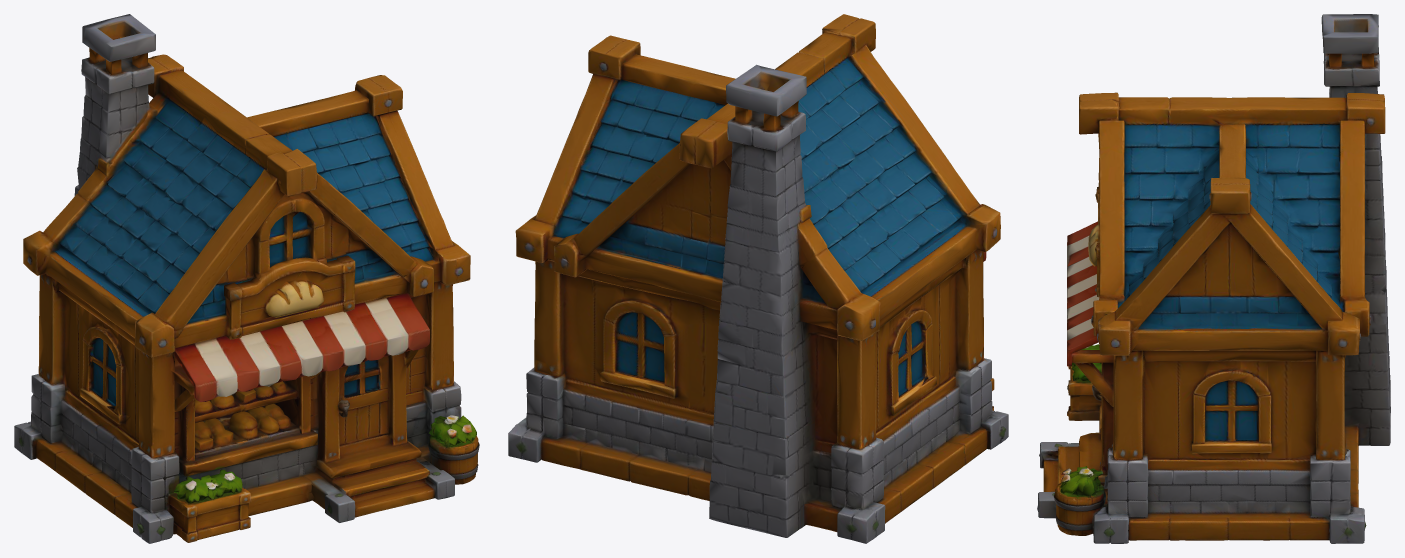
Rendered from bakery.glb.
The picture shows the model from 3 angles, left to right: view 1: azimuth 30°, elevation 25°; view 2: azimuth 150°, elevation 25°; view 3: azimuth 270°, elevation 25°; orthographic projection. The views are drawn at different scales.
Visible parts, largest first — view 1: tripo_node_aa6feaf2-c8e9-4cdf-a81e-95962b6dec86; view 2: tripo_node_aa6feaf2-c8e9-4cdf-a81e-95962b6dec86; view 3: tripo_node_aa6feaf2-c8e9-4cdf-a81e-95962b6dec86.
Boxes of the visible parts, x1,y1,x2,y2 form: tripo_node_aa6feaf2-c8e9-4cdf-a81e-95962b6dec86: (14,14,479,543); tripo_node_aa6feaf2-c8e9-4cdf-a81e-95962b6dec86: (508,14,1008,543); tripo_node_aa6feaf2-c8e9-4cdf-a81e-95962b6dec86: (1037,14,1390,543).
Bounding box in the file's own units: 0.8768 × 1 × 0.7921.
1 material, 1 textured.
